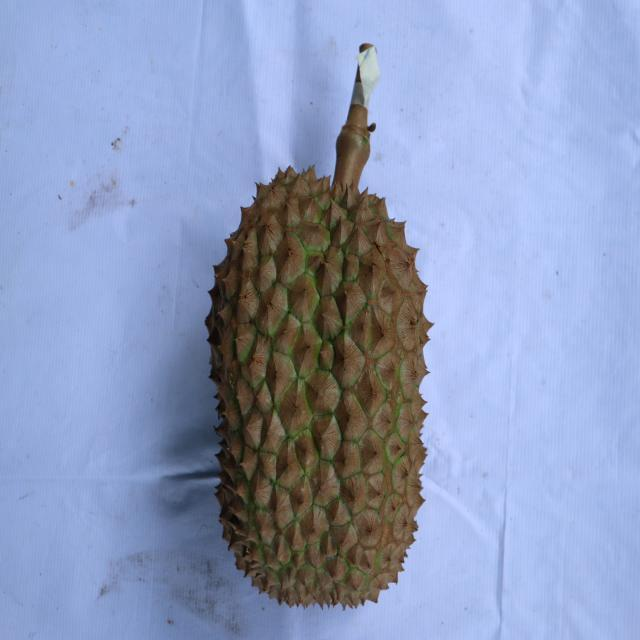mature: (205, 165, 433, 615)
